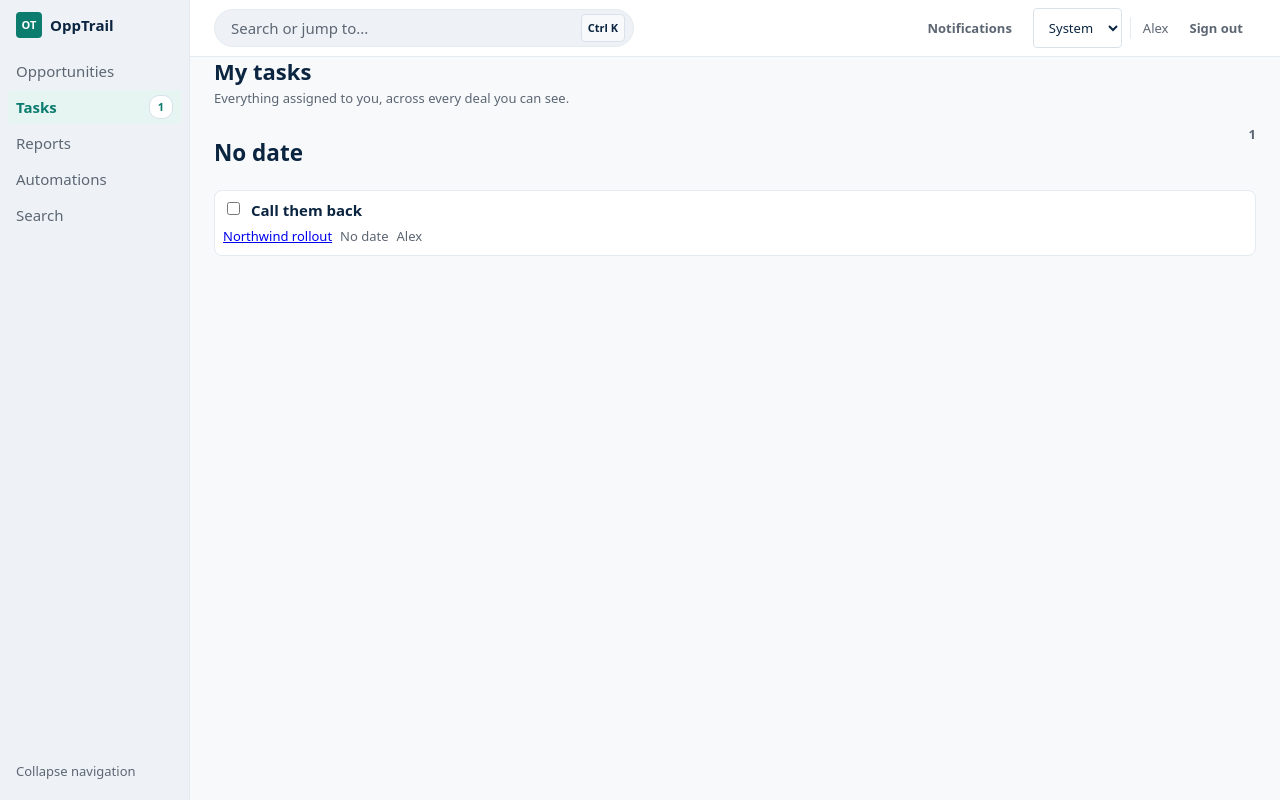
my tasks › opens the task from its title rather than ticking it off
The width and height of the screenshot is (1280, 800).
Click the link "Call them back" at point(307, 210), box left=251, top=199, right=362, bottom=221
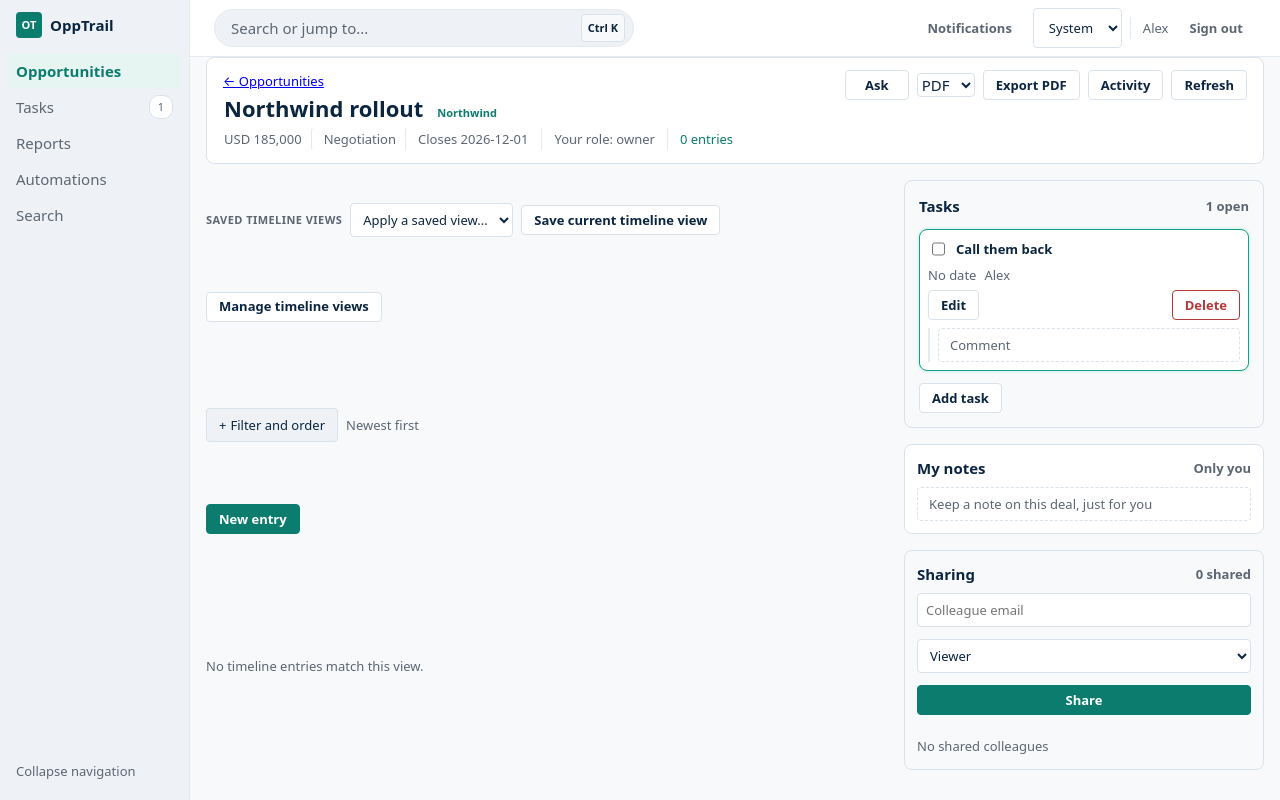
Expected: the heading "Northwind rollout" is shown, left=223, top=94, right=424, bottom=122
